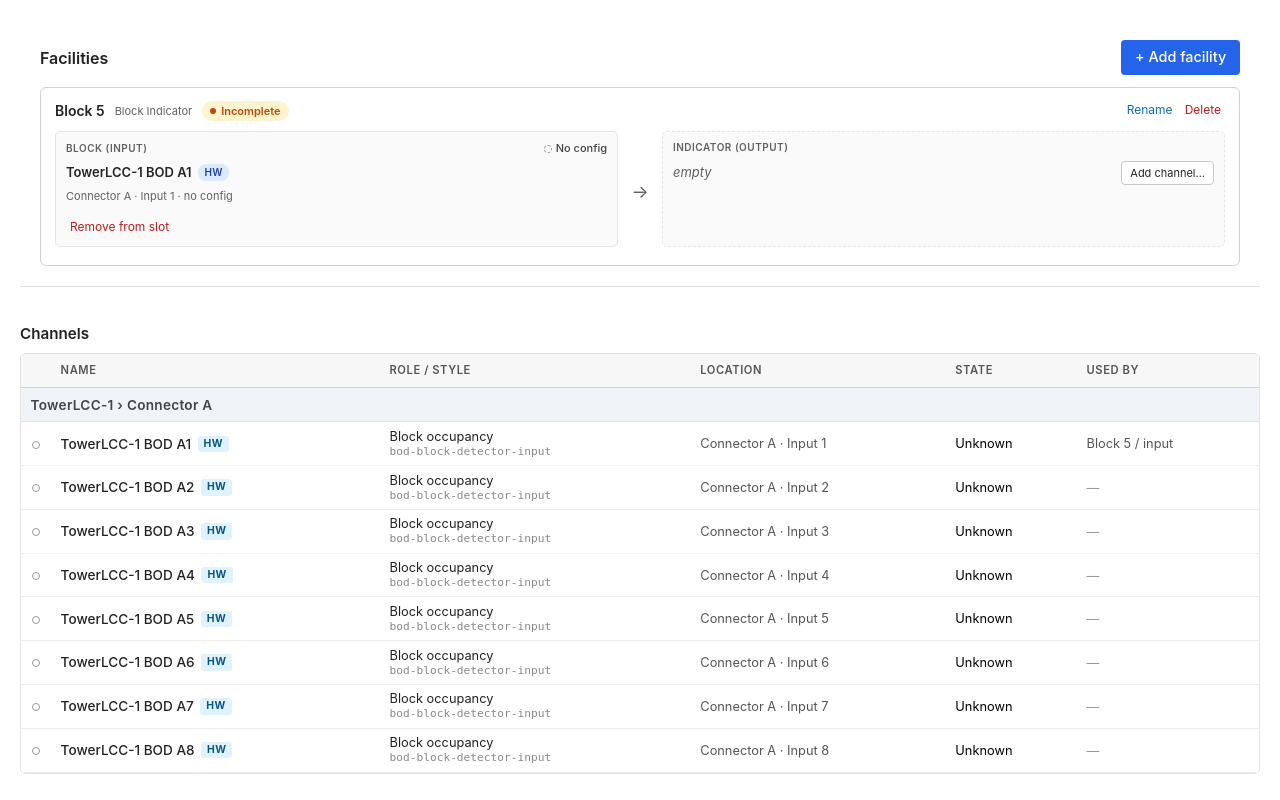
Test: Spec 018 / S5 — Add-channel user journey (integration) › AC(b)–(d) + (f): Add channel → orchestrator atomic create+attach lights up the Channels panel + dirtyBreakdown + collectDeltas
Note: (b) Click Add channel on output → component emits intent up to the route.
Click the button with test id "add-channel-button".
click(1168, 173)  # box [1121,161,1214,185]
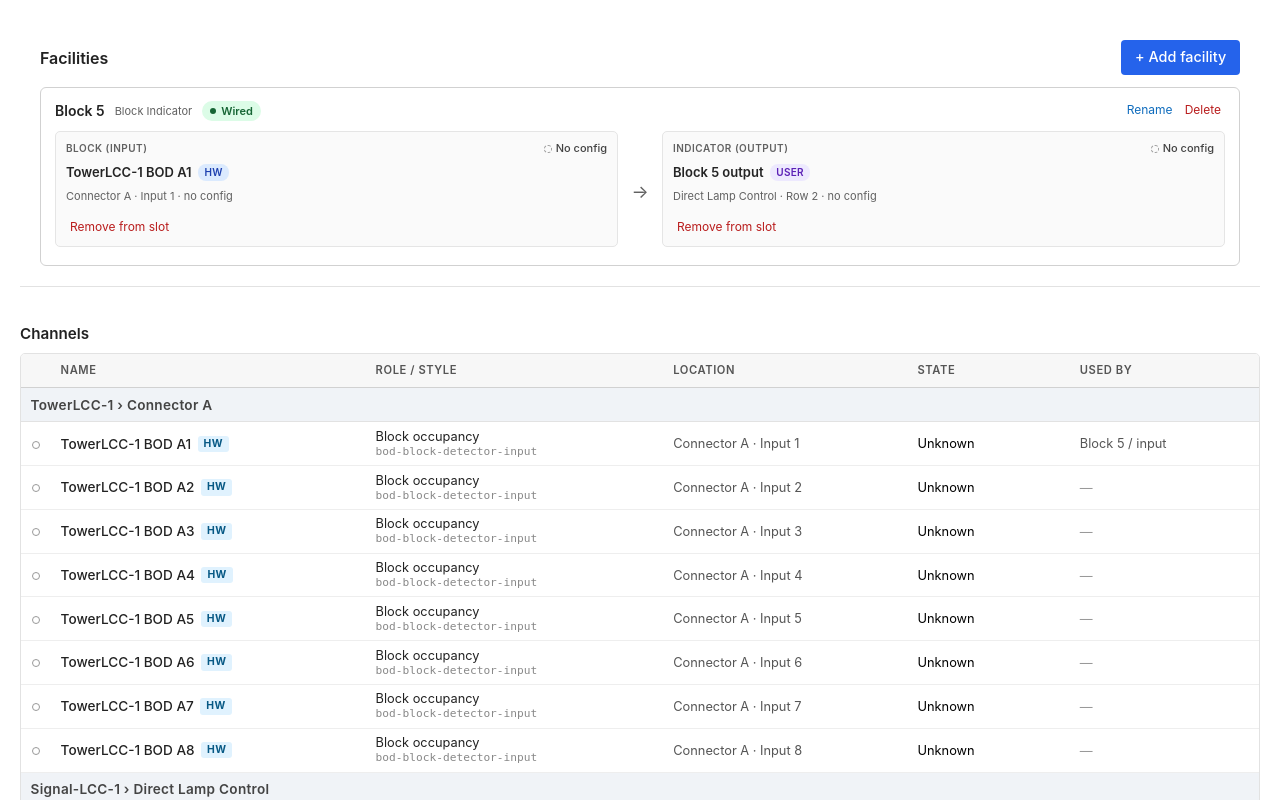
Check: the text "Block 5 output" is shown, box [673,163,764,182]
Check: the text with test id "slot-channel-name" reads "Block 5 output", box [673,164,764,180]
